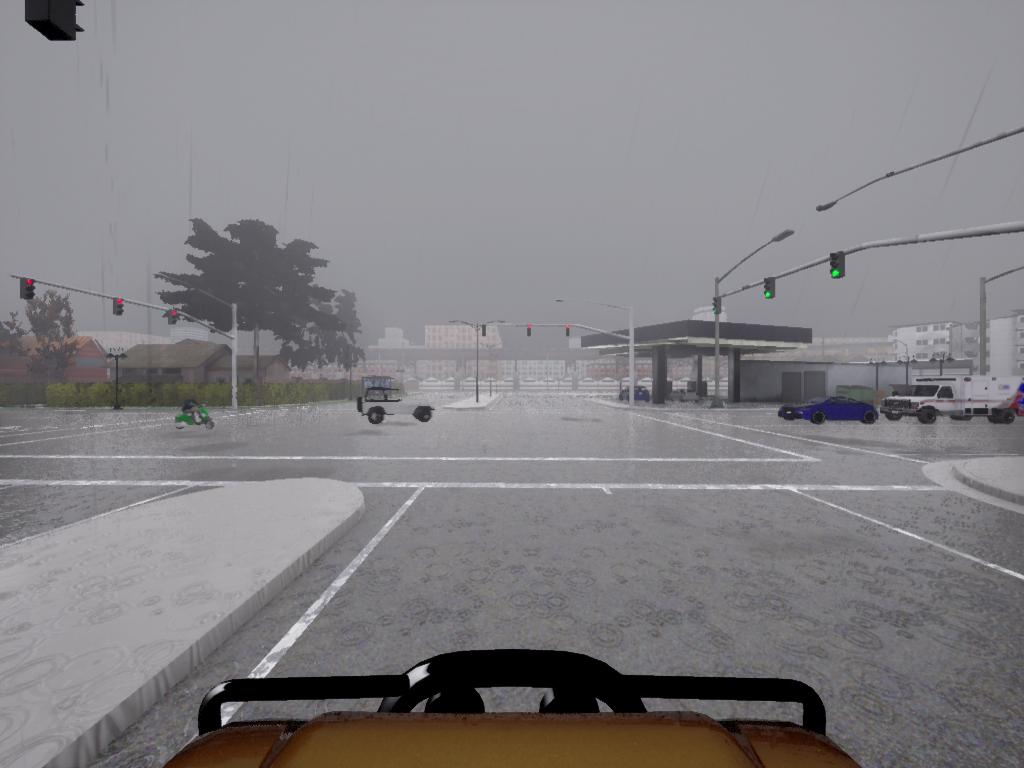traffic_light: (27, 1, 87, 41), (829, 254, 847, 281), (23, 278, 37, 302), (763, 279, 776, 301), (113, 299, 124, 319), (167, 310, 180, 326), (714, 296, 723, 316), (524, 326, 533, 337), (482, 323, 488, 338), (528, 327, 535, 337), (567, 326, 572, 338)
